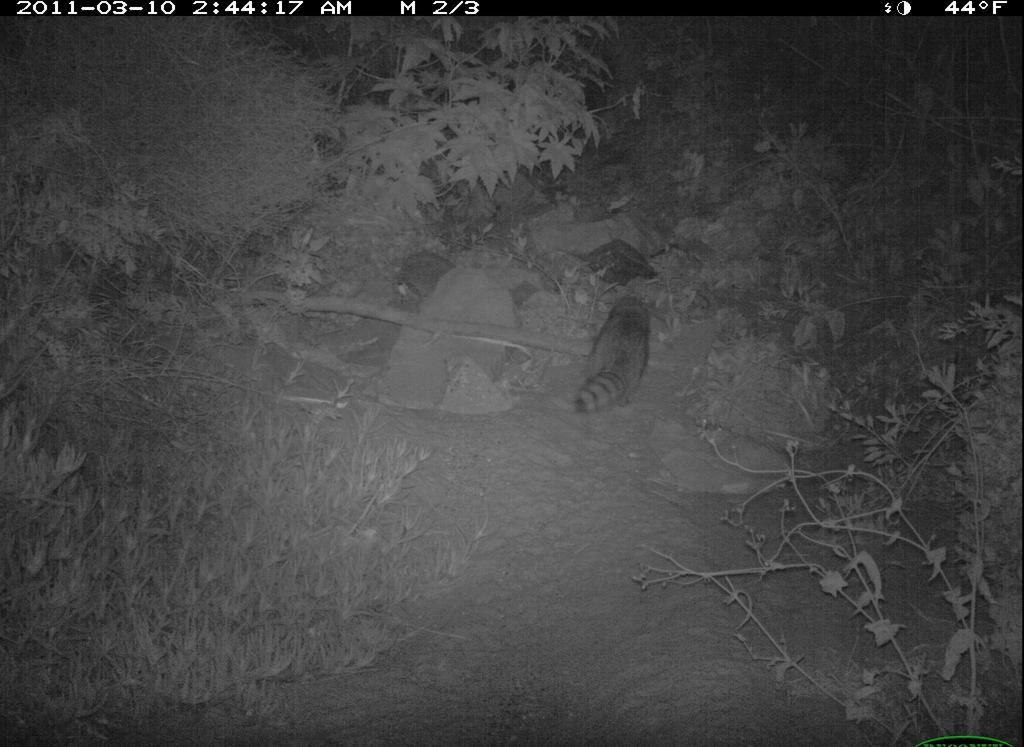raccoon: (569, 294, 661, 431)
